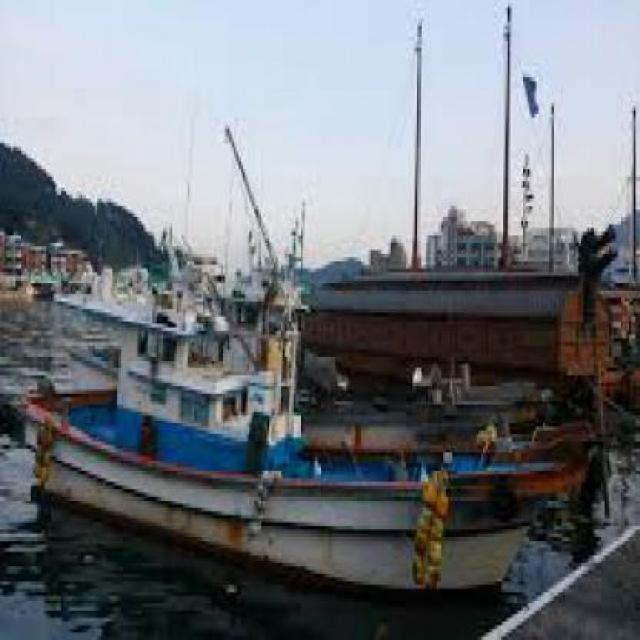Ship: (10, 281, 601, 616)
